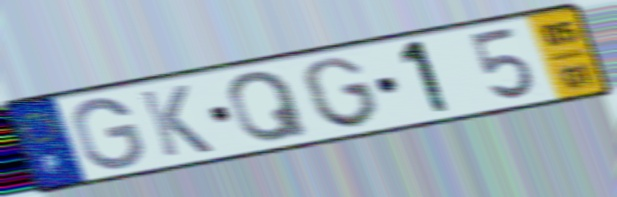1: (393, 36, 455, 118)
5: (465, 25, 537, 102)
G: (299, 53, 383, 131), (70, 95, 148, 172)
K: (135, 82, 218, 160)
Q: (225, 69, 313, 145)
